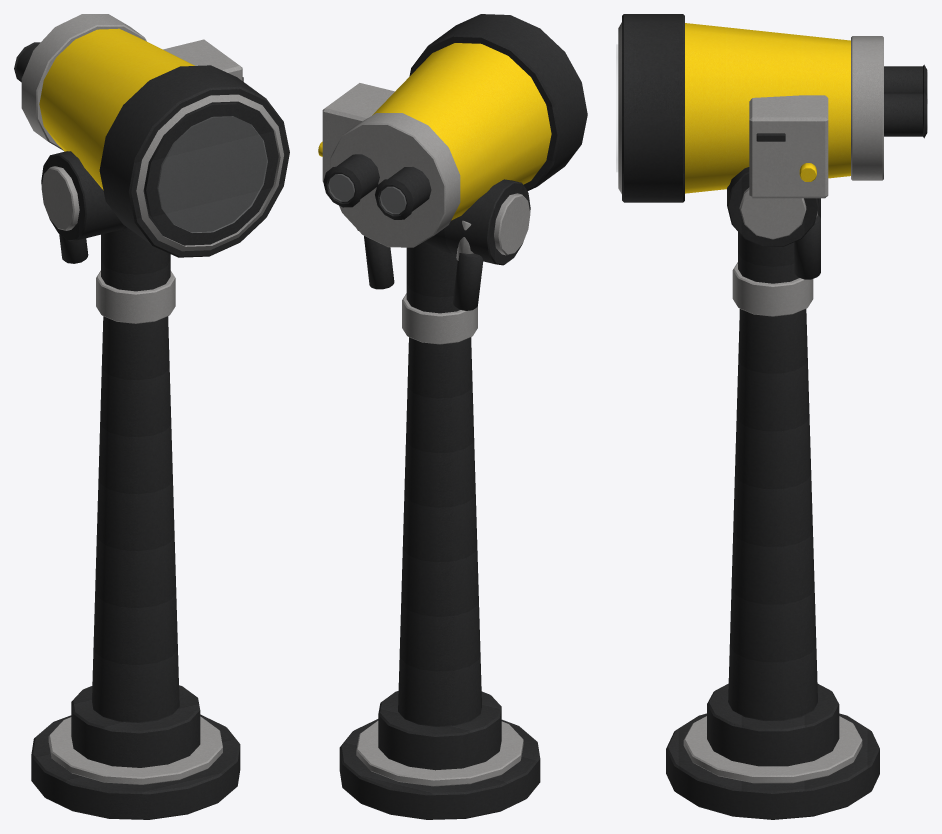
Rendered from studio-guide-telescope.glb.
3 views of the same model, side by side, from view 1: azimuth 30°, elevation 25°; view 2: azimuth 150°, elevation 25°; view 3: azimuth 270°, elevation 25° (orthographic). The views are drawn at different scales.
Parts seen in each view (by area): view 1: TaperedPedestalPost, ObjectiveDarkWell, TaperedViewerHousing, ObjectiveHood, ObjectiveGlass, RoundBasePlate, PostLowerCollar, BaseSteelInset, RearHousingCollar, SwivelNeck, ObjectiveSteelBezel, SwivelAxle (+4 smaller); view 2: TaperedPedestalPost, TaperedViewerHousing, RearHousingCollar, ObjectiveHood, RoundBasePlate, PostLowerCollar, BaseSteelInset, SwivelAxle, SwivelNeck, CoinBox, UpperPostCollar, SwivelCapLeft (+8 smaller); view 3: TaperedPedestalPost, TaperedViewerHousing, ObjectiveHood, RoundBasePlate, CoinBox, PostLowerCollar, RearHousingCollar, BaseSteelInset, UpperPostCollar, SwivelCapRight, SwivelNeck, SwivelAxle (+4 smaller).
Part boxes in pixels (box(x1,y1,x2,y2)): TaperedPedestalPost: box(92, 316, 179, 722); ObjectiveDarkWell: box(144, 102, 278, 244); TaperedViewerHousing: box(39, 28, 194, 190); ObjectiveHood: box(99, 65, 289, 257); ObjectiveGlass: box(158, 116, 267, 232); RoundBasePlate: box(31, 714, 240, 819); PostLowerCollar: box(71, 685, 200, 767); BaseSteelInset: box(48, 716, 222, 784); RearHousingCollar: box(21, 14, 146, 150); SwivelNeck: box(101, 228, 170, 291); ObjectiveSteelBezel: box(136, 94, 283, 251); SwivelAxle: box(41, 151, 127, 241); TaperedPedestalPost: box(398, 337, 481, 726); TaperedViewerHousing: box(372, 43, 551, 220); RearHousingCollar: box(330, 113, 460, 247); ObjectiveHood: box(409, 14, 587, 191); RoundBasePlate: box(339, 719, 540, 819); PostLowerCollar: box(378, 691, 501, 770); BaseSteelInset: box(356, 721, 523, 786); SwivelAxle: box(357, 179, 530, 265); SwivelNeck: box(406, 242, 459, 313); CoinBox: box(322, 83, 394, 181); UpperPostCollar: box(402, 293, 477, 344); SwivelCapLeft: box(494, 193, 530, 255); TaperedPedestalPost: box(728, 309, 817, 720); TaperedViewerHousing: box(685, 23, 850, 193); ObjectiveHood: box(622, 14, 684, 202); RoundBasePlate: box(666, 713, 879, 819); CoinBox: box(749, 95, 828, 198); PostLowerCollar: box(707, 683, 839, 766); RearHousingCollar: box(851, 36, 883, 180); BaseSteelInset: box(683, 716, 862, 783); UpperPostCollar: box(732, 262, 813, 316); SwivelCapRight: box(739, 187, 806, 239); SwivelNeck: box(738, 232, 799, 283); SwivelAxle: box(727, 167, 818, 246).
Size of the model in its own units: 0.367 by 1.32 by 0.4955.
4 materials, 3 textured.
